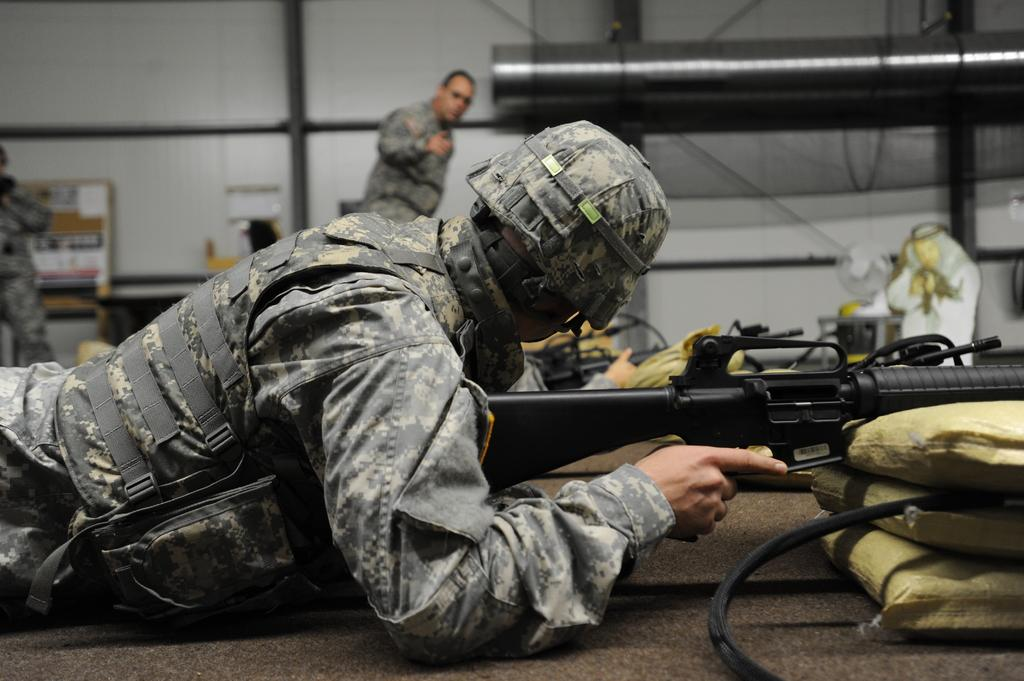Rifle: (486, 326, 1024, 541)
